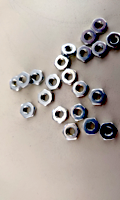nut: (100, 122, 118, 141), (72, 80, 90, 98), (83, 118, 100, 135), (63, 123, 80, 140), (90, 88, 107, 105), (61, 68, 78, 85), (52, 106, 68, 124), (45, 75, 64, 90), (20, 102, 37, 118), (38, 89, 54, 106), (76, 46, 93, 62), (71, 105, 87, 121), (92, 41, 108, 57), (29, 70, 44, 87), (91, 18, 108, 33), (17, 71, 31, 89), (81, 29, 96, 45), (106, 32, 120, 48), (55, 56, 71, 70), (61, 43, 76, 57), (10, 75, 20, 92)
